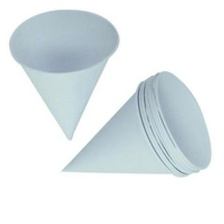paper_cup: (56, 66, 216, 185), (5, 5, 124, 146)
